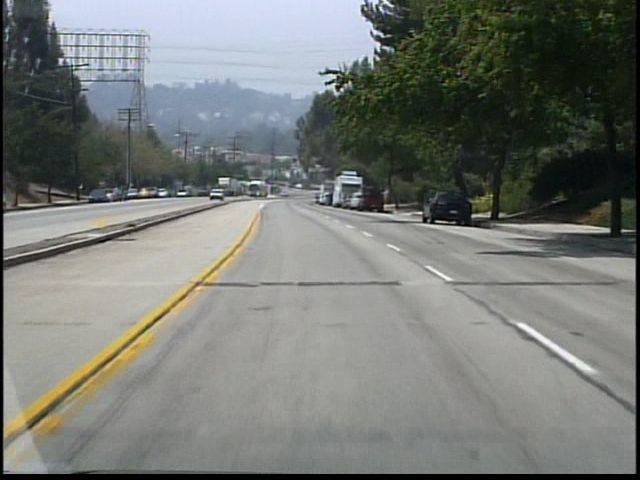person: (381, 183, 393, 209)
